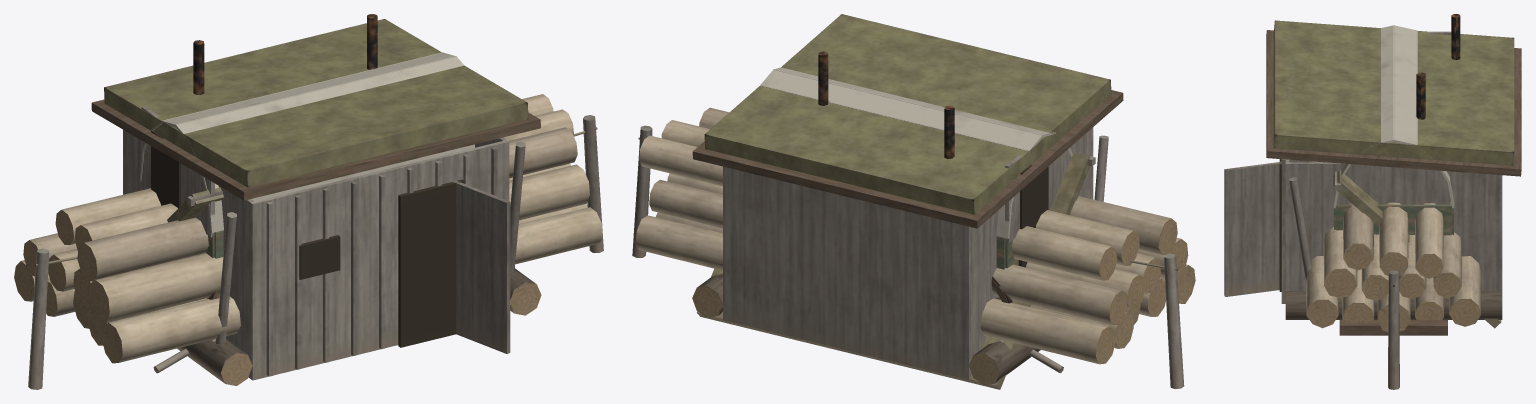
The model's file is camp.glb.
3 views of the same model, side by side, from view 1: azimuth 30°, elevation 25°; view 2: azimuth 150°, elevation 25°; view 3: azimuth 270°, elevation 25° (orthographic). The views are drawn at different scales.
Parts seen in each view (by area): view 1: shack, log_deck, sheep_wagon, picket_line, lean_to; view 2: shack, log_deck, sheep_wagon, lean_to, picket_line; view 3: shack, log_deck, sheep_wagon, lean_to, picket_line, carreta.
Part boxes in pixels (left/top/right/bottom): shack: left=91, top=19, right=540, bottom=380; log_deck: left=14, top=94, right=602, bottom=385; sheep_wagon: left=139, top=14, right=474, bottom=299; picket_line: left=28, top=115, right=603, bottom=389; lean_to: left=167, top=141, right=525, bottom=344; shack: left=692, top=14, right=1123, bottom=379; log_deck: left=635, top=107, right=1195, bottom=385; sheep_wagon: left=760, top=51, right=1075, bottom=303; lean_to: left=696, top=135, right=1108, bottom=389; picket_line: left=632, top=125, right=1184, bottom=388; shack: left=1224, top=14, right=1521, bottom=303; log_deck: left=1285, top=161, right=1502, bottom=331; sheep_wagon: left=1333, top=25, right=1454, bottom=235; lean_to: left=1289, top=170, right=1501, bottom=328; picket_line: left=1388, top=270, right=1399, bottom=389; carreta: left=1339, top=320, right=1447, bottom=335.
Bounding box in the file's own units: 7.15 × 3.35 × 3.84.
Materials: 1 (1 with a texture image).
